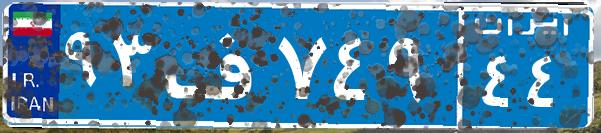3: (110, 28, 158, 105)
4: (330, 28, 385, 110), (475, 38, 525, 113), (525, 38, 570, 115)
7: (273, 28, 330, 110)
9: (385, 28, 445, 110), (57, 26, 110, 107)
ف: (158, 15, 273, 115)
